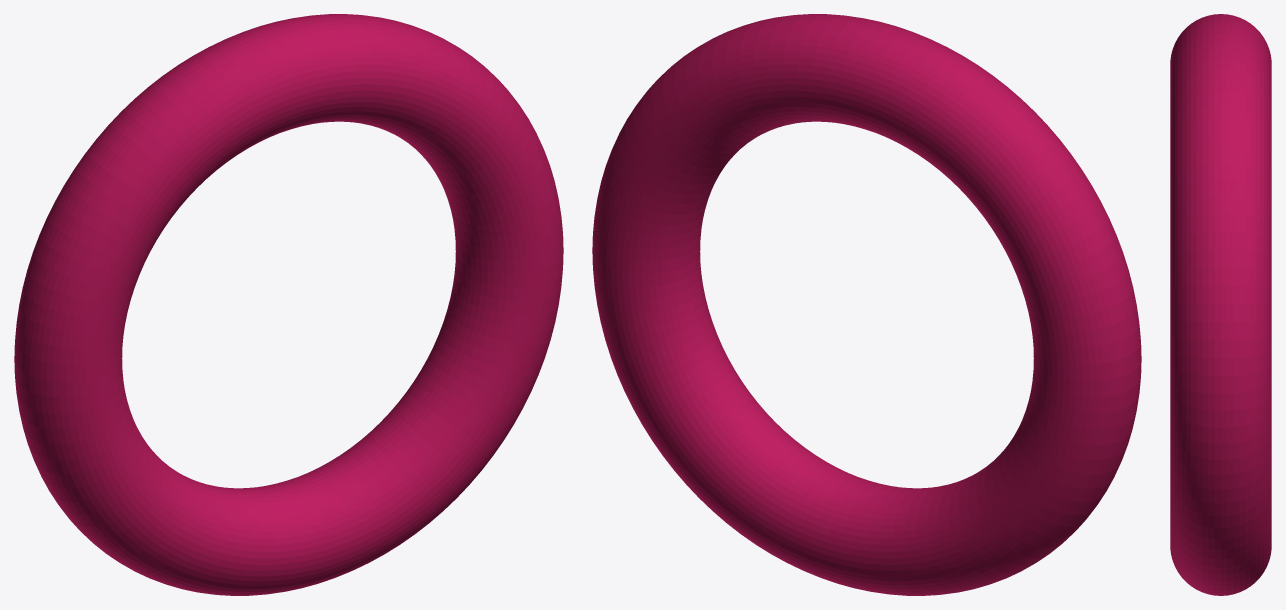
The picture shows the model from 3 angles, left to right: view 1: azimuth 30°, elevation 25°; view 2: azimuth 150°, elevation 25°; view 3: azimuth 270°, elevation 25°; orthographic projection. The views are drawn at different scales.
Visible parts, largest first — view 1: world; view 2: world; view 3: world.
Boxes of the visible parts, x1,y1,x2,y2 form: world: (14,14,563,595); world: (592,14,1141,595); world: (1170,14,1271,595).
Bounding box in the file's own units: 28.27 × 28.27 × 4.92.
